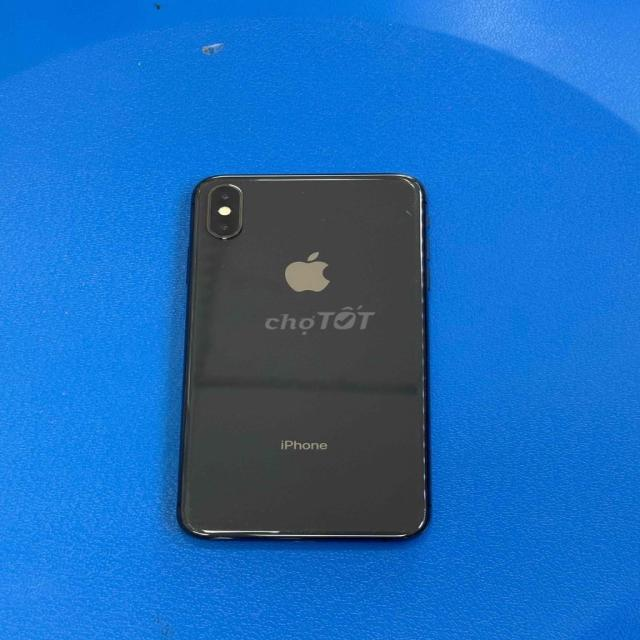gen_x_xs: (179, 173, 421, 545)
